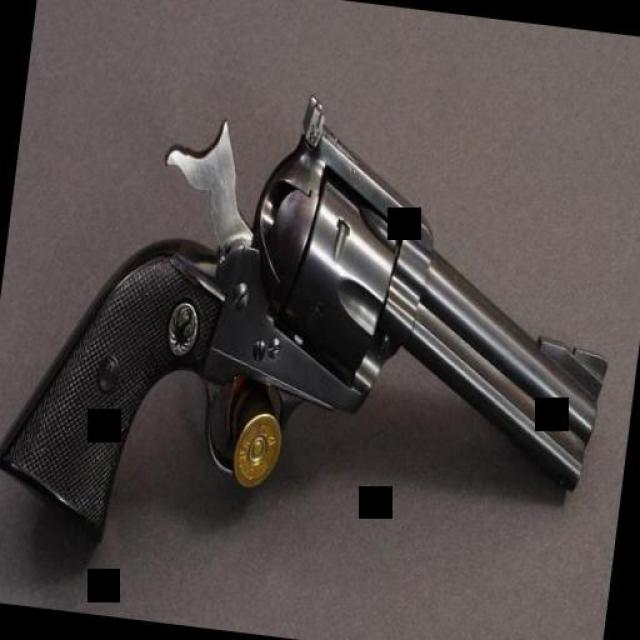gun: (0, 50, 639, 604)
